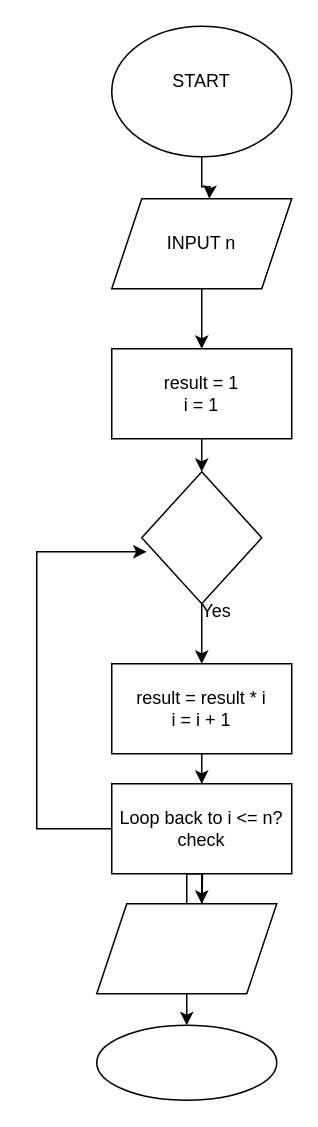
Some shapes in this 318 by 1127 pixel diagram are drawn without their labels. The box of each missing label's shape, as (x1, y1, x2, y2) in pixels:
is i <= n ?: (140, 470, 262, 604)
OUTPUT result: (95, 902, 277, 994)
